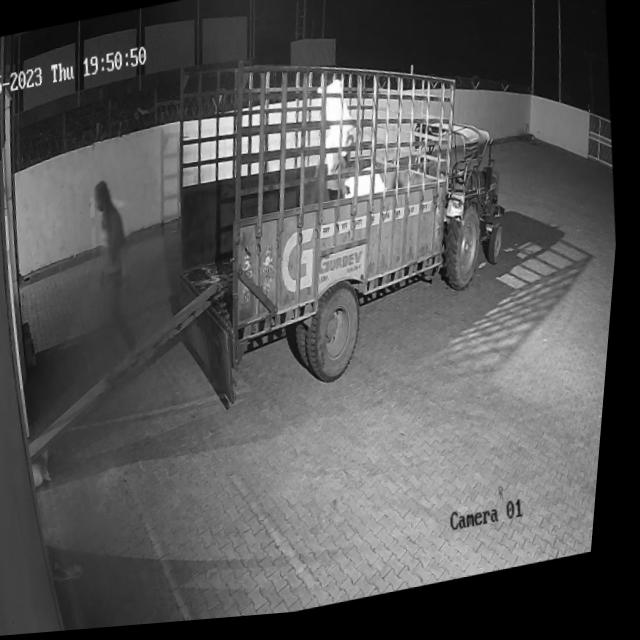sack: (315, 82, 363, 166)
